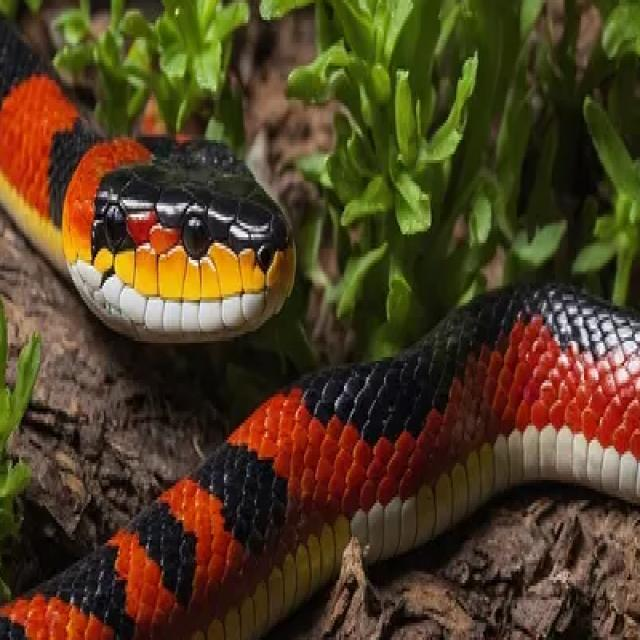Snake: (0, 0, 640, 640), (0, 0, 299, 346)
